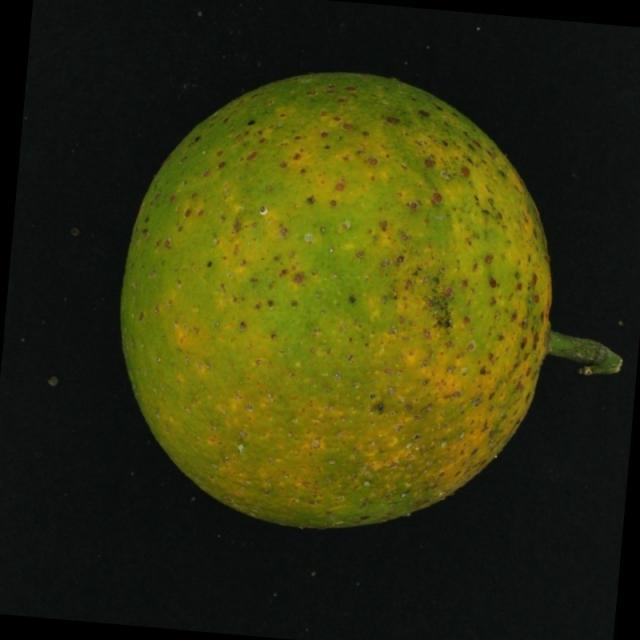grenning: (94, 58, 633, 558)
